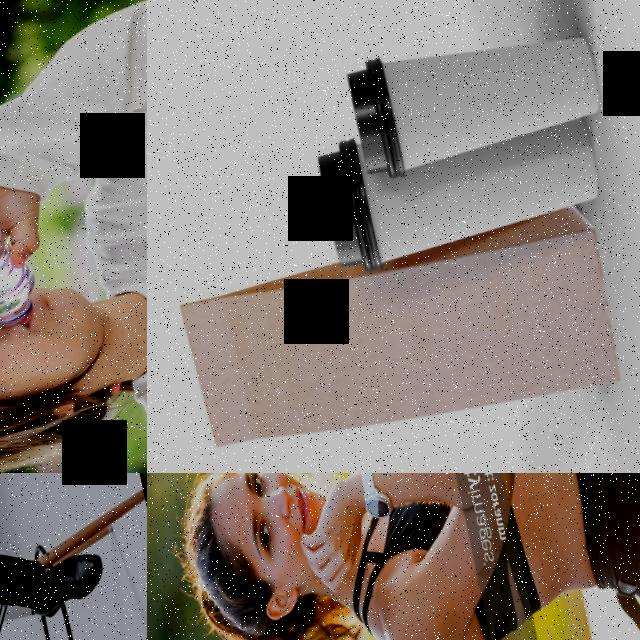bottle: (0, 186, 49, 346)
cup: (308, 84, 620, 284), (347, 11, 615, 184)
